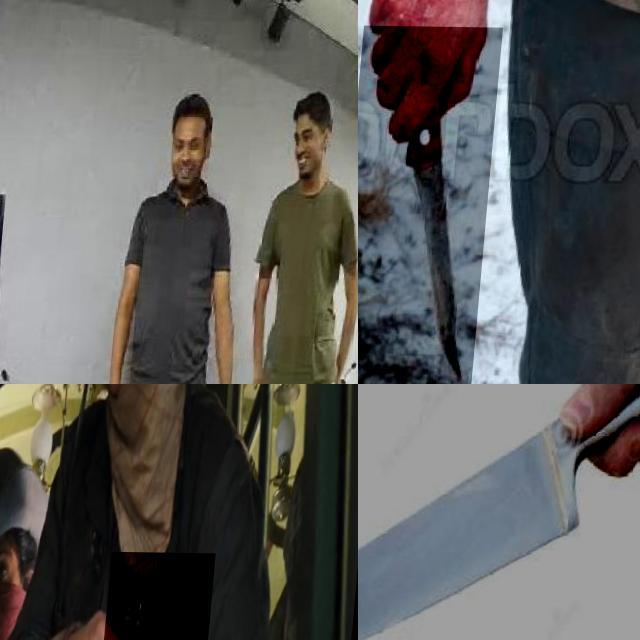-: (358, 384, 640, 640), (358, 24, 507, 384)
gun-knife-thesis - v11 Yolov5 augmented: (112, 550, 225, 640)
